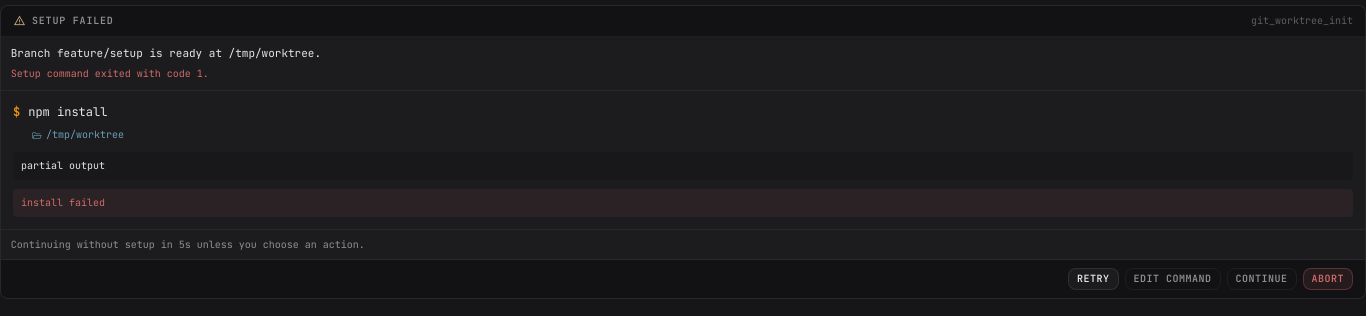
ToolCallApproval › pauses auto-continue and opens project settings when editing the command
Click the button "EDIT COMMAND": (1172, 279) [1124, 268, 1220, 290]
Wait 5200 ms
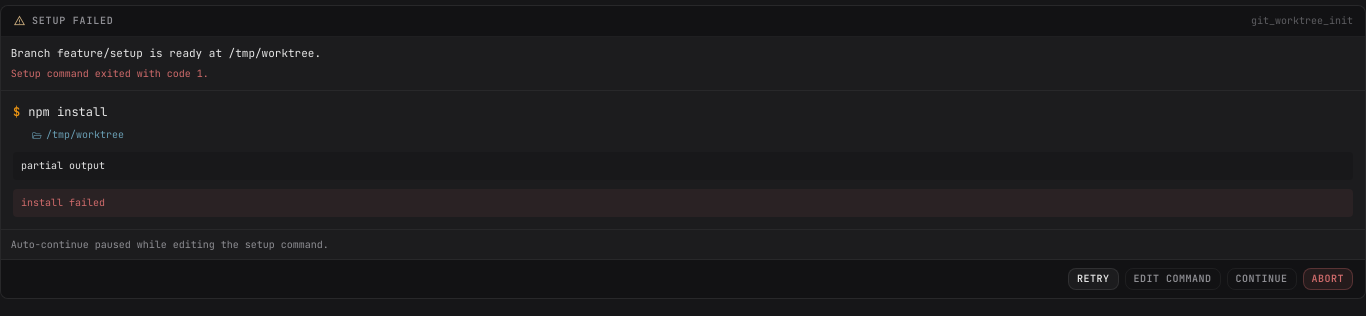
Expected: the text "Auto-continue paused while editing the setup command." is shown, [1, 230, 1365, 260]
